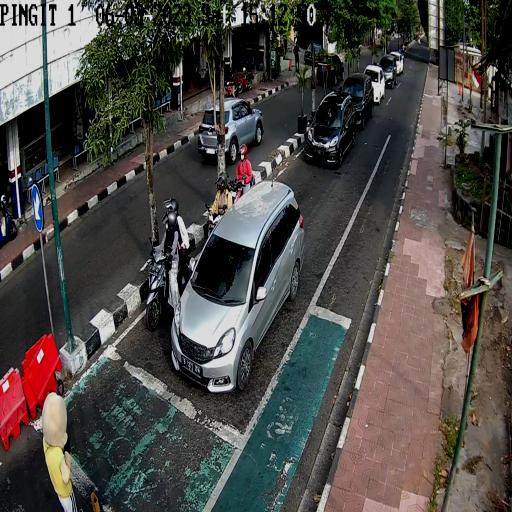mobil: (175, 181, 307, 394), (196, 96, 265, 161), (305, 88, 357, 167), (339, 72, 374, 127), (361, 63, 386, 106), (378, 53, 398, 89), (390, 50, 403, 74)
motor: (146, 242, 172, 330), (204, 198, 226, 248), (225, 170, 245, 215)
